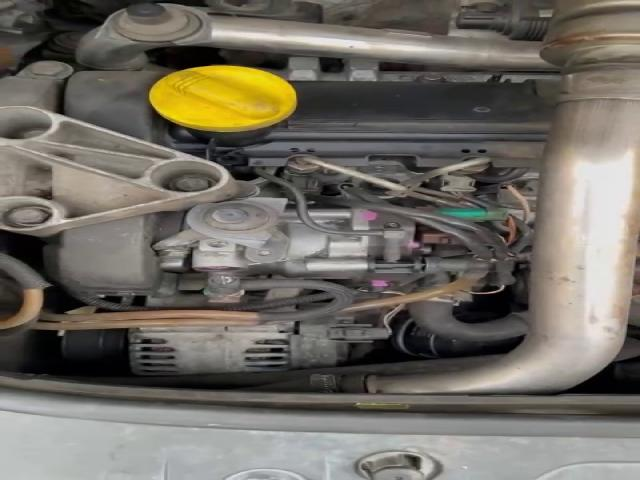alternator: (128, 310, 384, 376)
high_pressure_pump: (188, 204, 422, 292)
